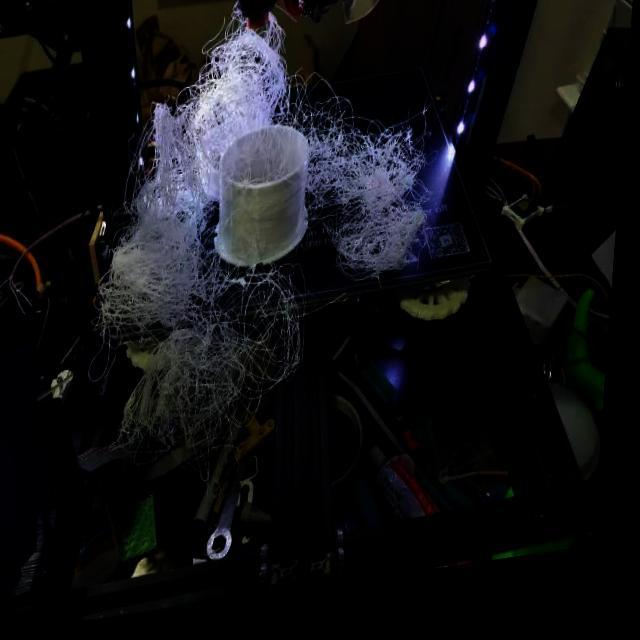spaghetti: (118, 277, 321, 519), (86, 138, 222, 374), (312, 108, 447, 302), (155, 2, 316, 152)
